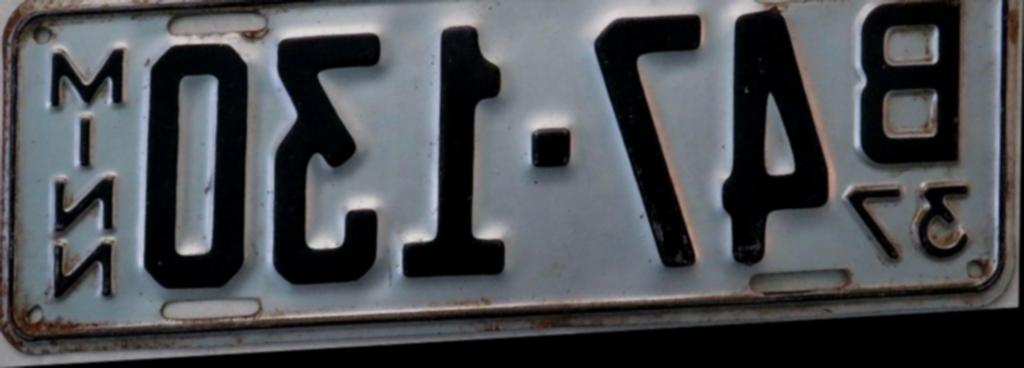License_Plate: (12, 0, 1013, 332)
